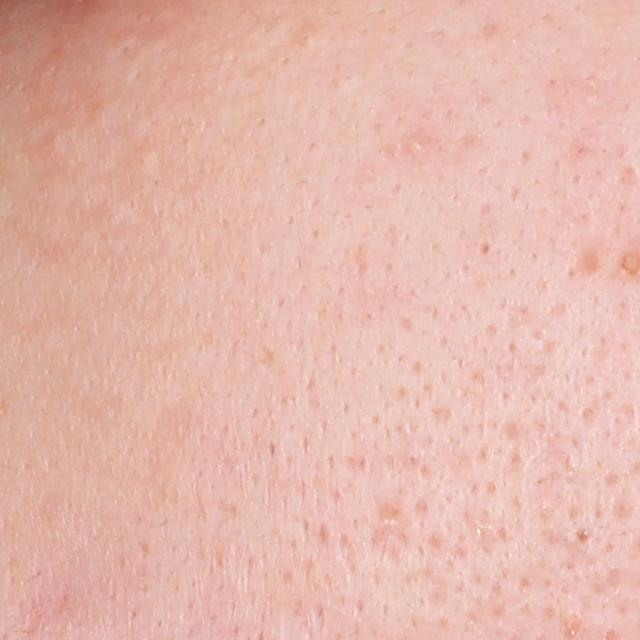atrophic_scar: (362, 497, 417, 571), (575, 245, 606, 281)
comedo: (127, 141, 157, 174), (472, 233, 499, 261), (404, 132, 426, 158), (296, 28, 318, 45)
